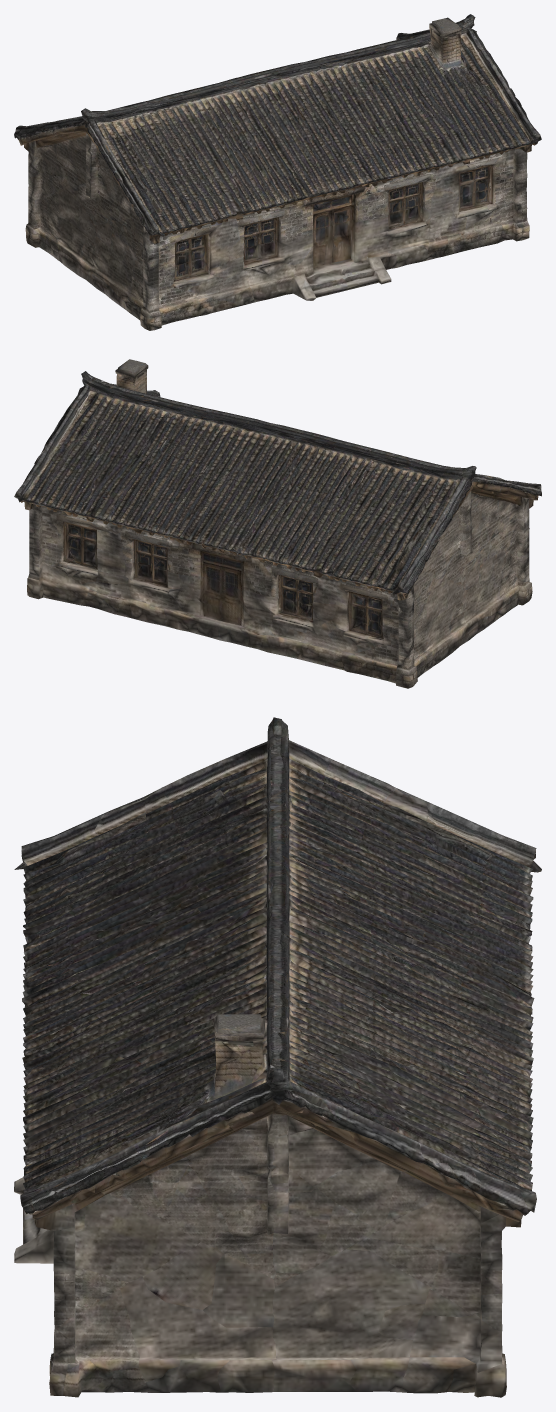
The model's file is bq_house_stone.mid.glb.
3 renders of one model, top to bottom at view 1: azimuth 30°, elevation 25°; view 2: azimuth 150°, elevation 25°; view 3: azimuth 270°, elevation 25°, orthographic. The views are drawn at different scales.
Size of the model in its own units: 1.9 by 0.8578 by 1.19.
Materials: 1 (1 with a texture image).
